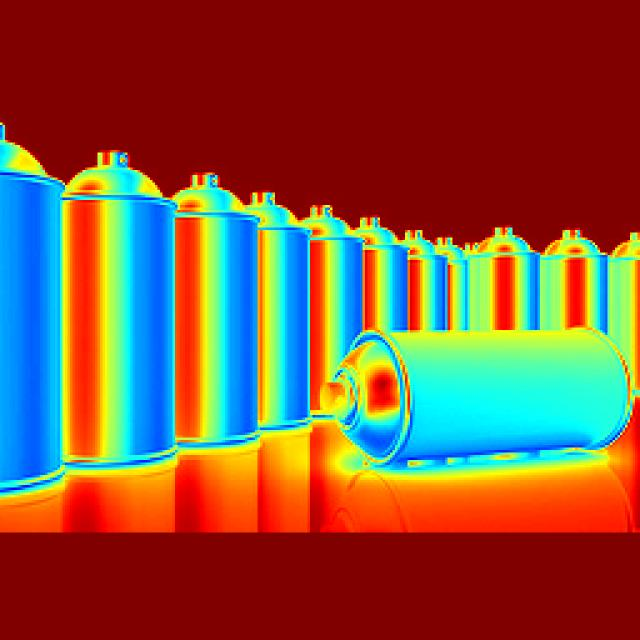Aerosol Cans: (320, 328, 640, 482), (75, 132, 190, 480), (176, 159, 262, 456), (1, 118, 63, 507), (246, 184, 316, 426), (296, 197, 366, 394), (536, 221, 608, 328), (357, 205, 413, 320), (472, 228, 534, 326), (406, 224, 439, 321)
